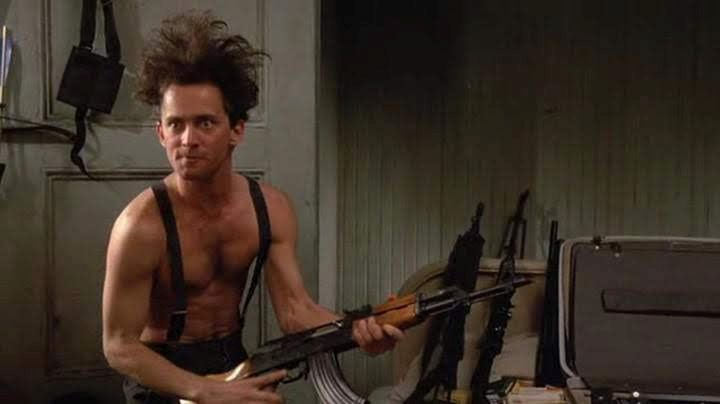gun: (187, 267, 532, 368), (428, 184, 483, 404), (491, 185, 539, 396)
